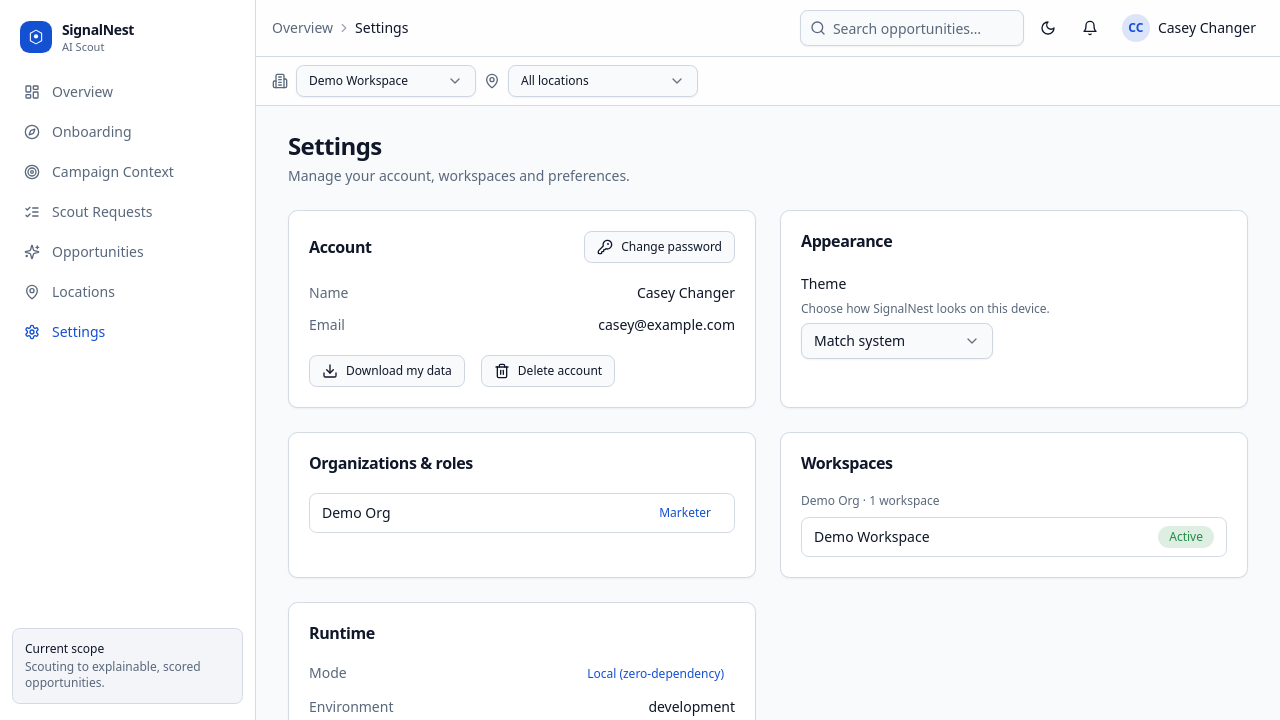
Test: U17-F02 the dialog › U17-F02 labels every field, gives password managers a read-only username, and sets autocomplete
This screenshot has width=1280, height=720.
Expected: the heading "Account" is shown, [309,237,372,257]
Click the button "Change password" at {"x": 660, "y": 247}, box [584,231,735,263]
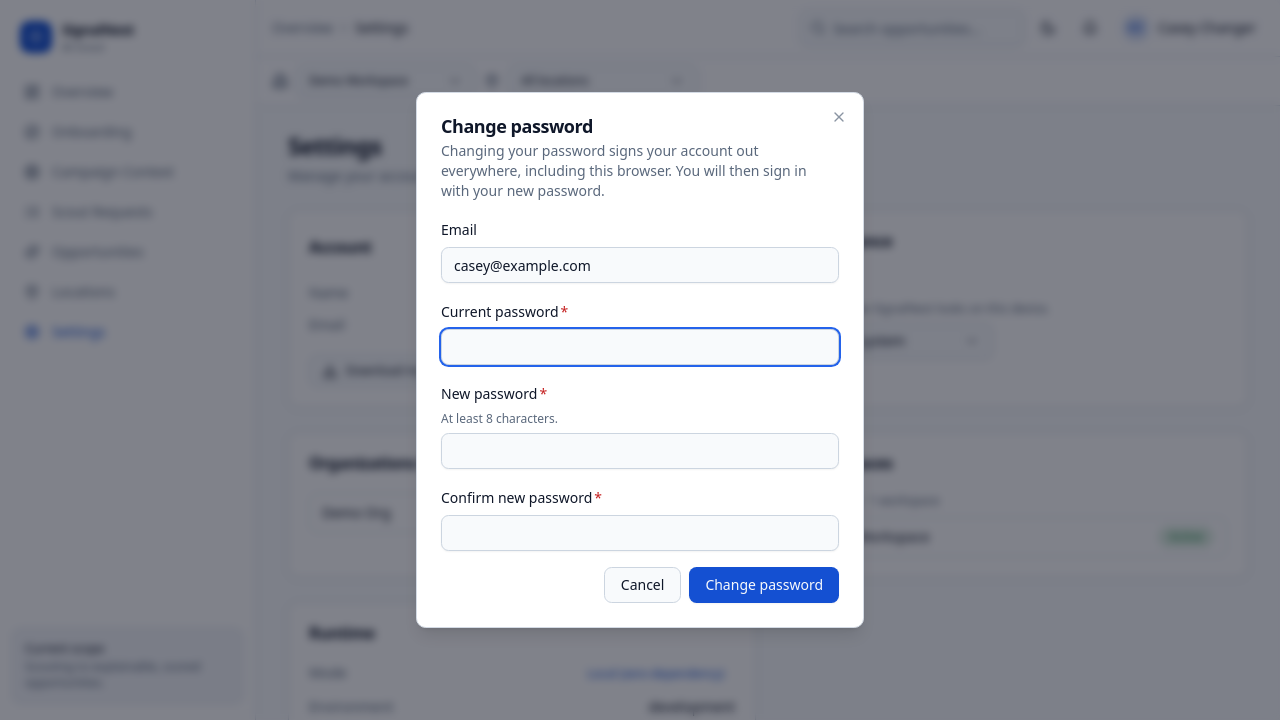
Now the field labelled "Email" holds "casey@example.com", box [441,247,839,283]
Now the number of password fields is 3, box [441,329,839,365]; [441,433,839,469]; [441,515,839,551]
Now the form is shown, box [441,217,839,603]
